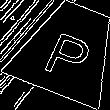P_NE: (39, 20, 98, 80)
